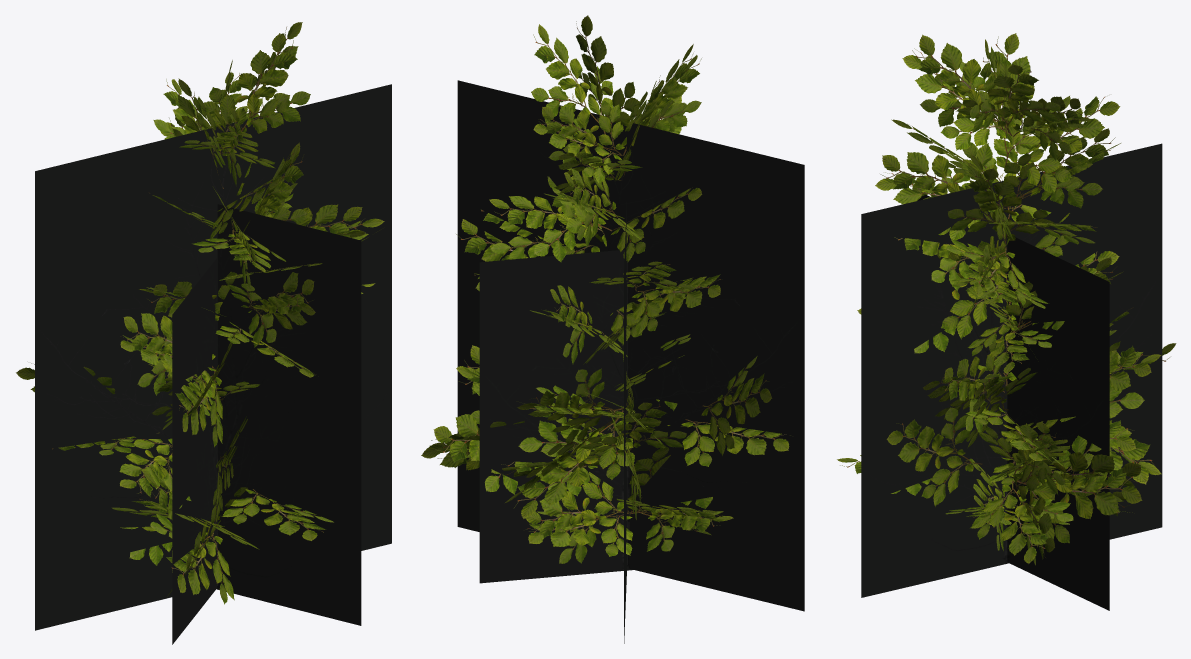
The model's file is bush_03.fbx.
The picture shows the model from 3 angles, left to right: view 1: azimuth 30°, elevation 25°; view 2: azimuth 150°, elevation 25°; view 3: azimuth 270°, elevation 25°; orthographic projection. The views are drawn at different scales.
Visible parts, largest first — view 1: Polygon_32; view 2: Polygon_32; view 3: Polygon_32.
Boxes of the visible parts, x1=… form: Polygon_32: x1=16, y1=22, x2=391, y2=644; Polygon_32: x1=421, y1=15, x2=804, y2=643; Polygon_32: x1=837, y1=33, x2=1176, y2=610.
Bounding box in the file's own units: 290 × 417 × 236.
2 materials, 2 textured.
